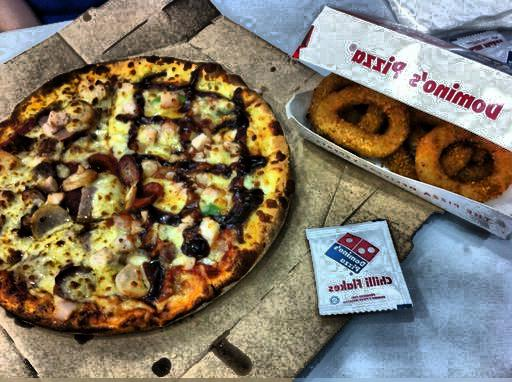pizza: (2, 31, 279, 348)
